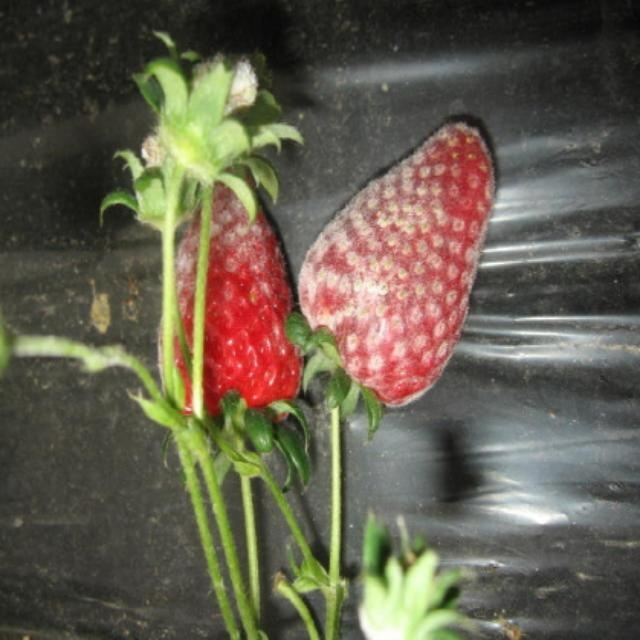Powdery Mildew Fruit: (294, 122, 498, 407), (157, 161, 307, 447)
